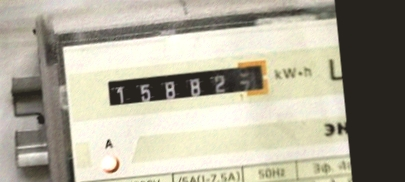1: (115, 85, 125, 103)
2: (213, 73, 227, 94)
5: (137, 82, 152, 102)
7: (238, 77, 251, 90)
8: (187, 75, 202, 97), (163, 78, 177, 100)
screen: (101, 57, 274, 113)
